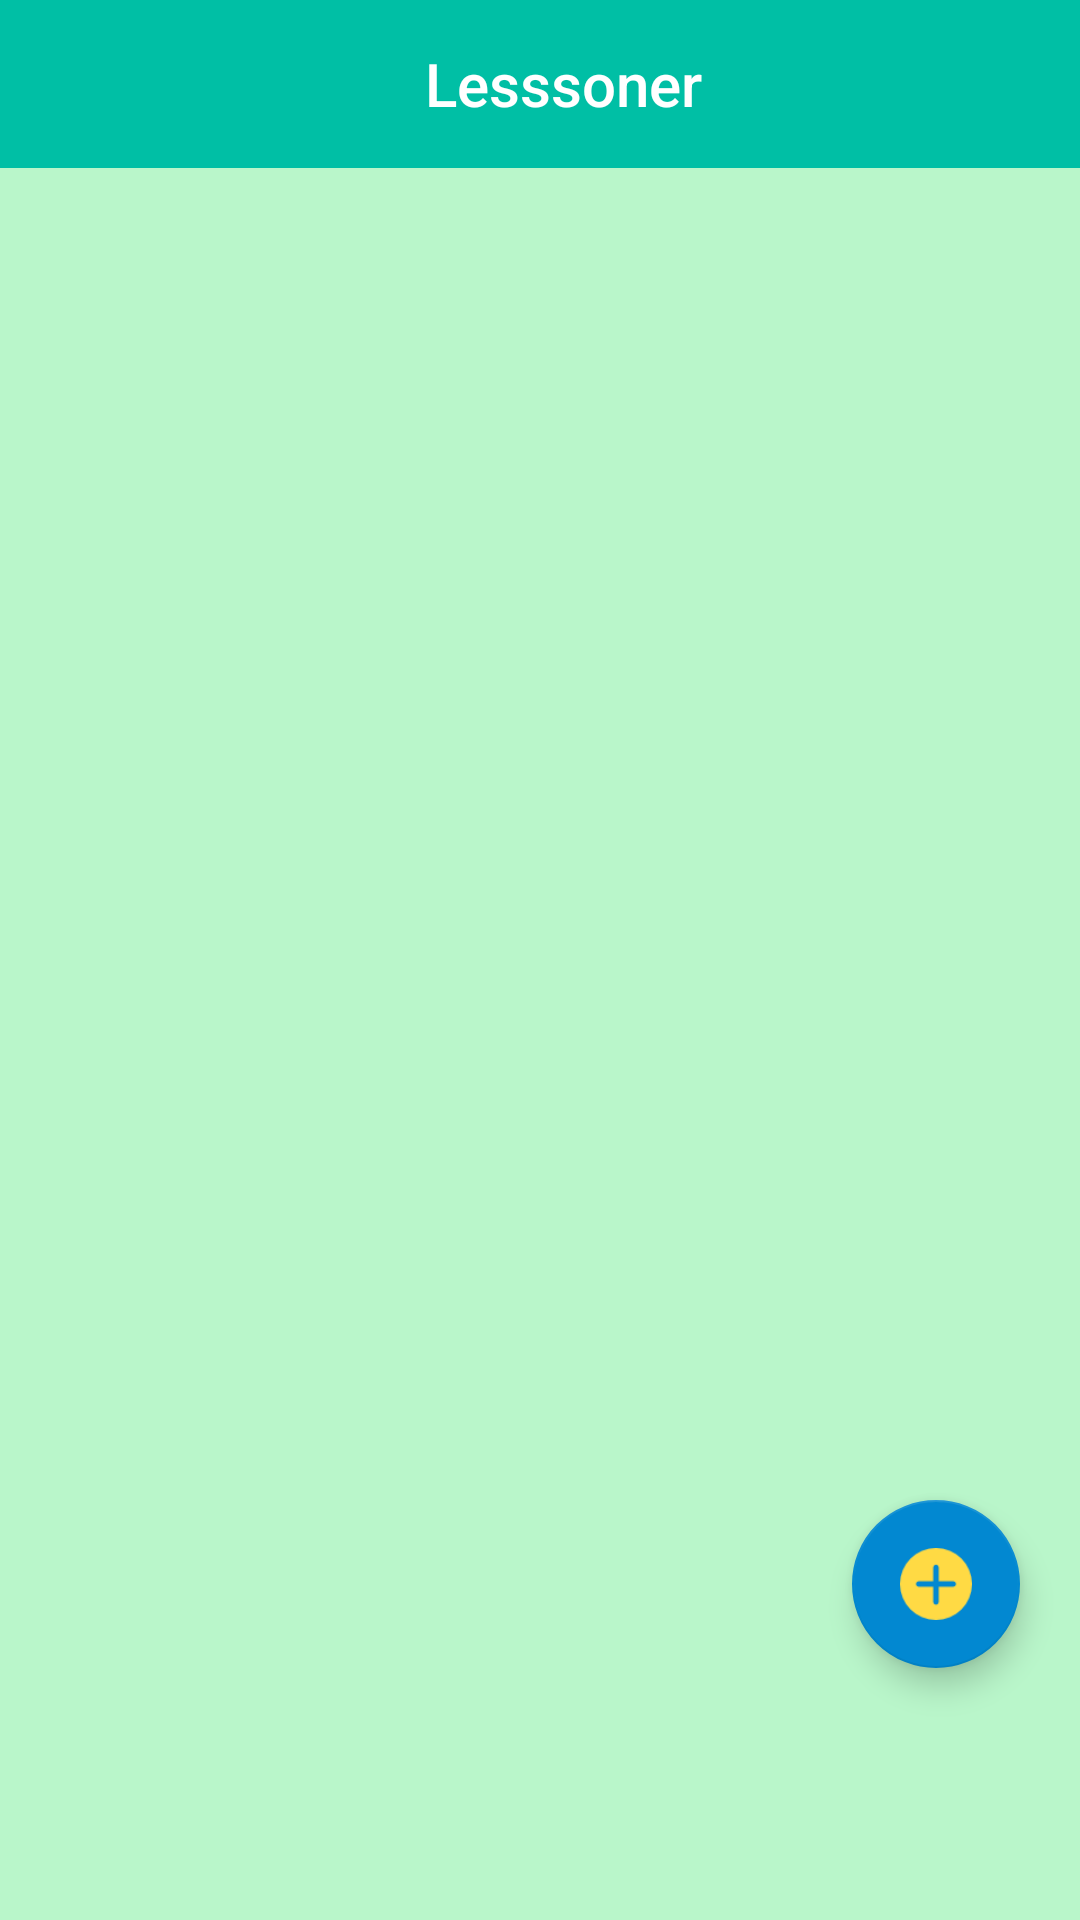

Icons on this 1080px×1920px Android screen, each with the point to tap as (x,y):
plus: (936,1584)
